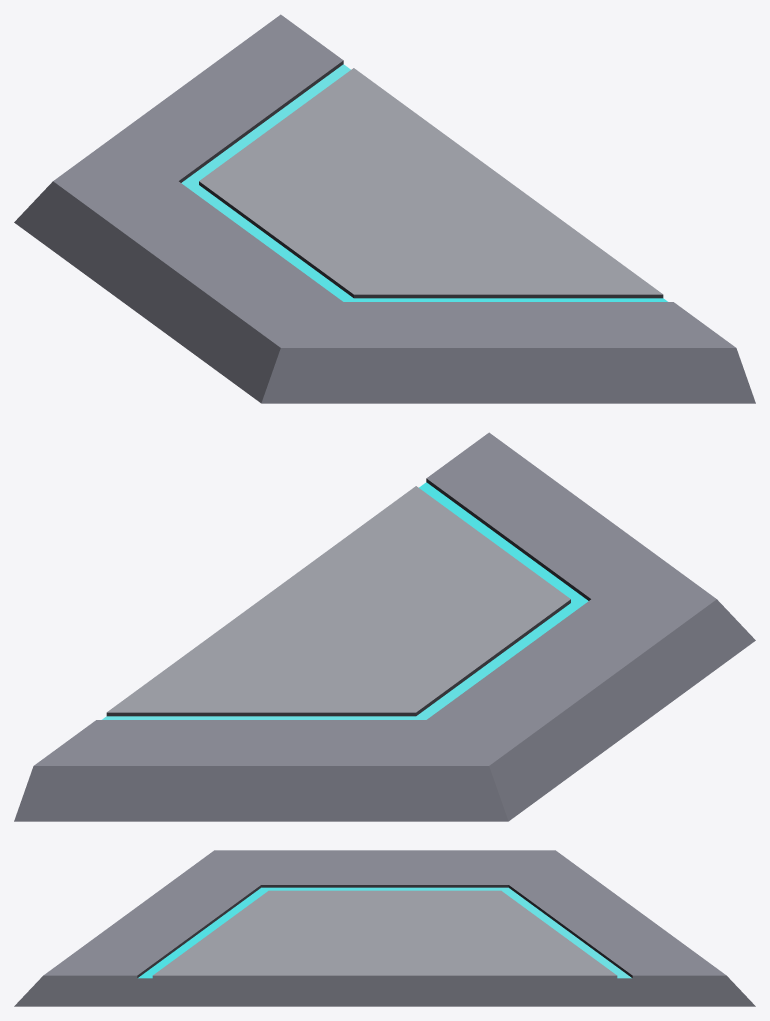
Rendered from FloorHexa_02.glb.
3 views of the same model, one above another, from view 1: azimuth 30°, elevation 25°; view 2: azimuth 150°, elevation 25°; view 3: azimuth 270°, elevation 25° (orthographic). The views are drawn at different scales.
Parts seen in each view (by area): view 1: FloorHexa_02; view 2: FloorHexa_02; view 3: FloorHexa_02.
Boxes of the visible parts, x1=… form: FloorHexa_02: x1=14, y1=14, x2=755, y2=403; FloorHexa_02: x1=14, y1=432, x2=755, y2=821; FloorHexa_02: x1=14, y1=850, x2=755, y2=1006.
Size of what is drawn, in the model's own units: 0.9402 by 0.1 by 2.17.
1 material, 1 textured.
